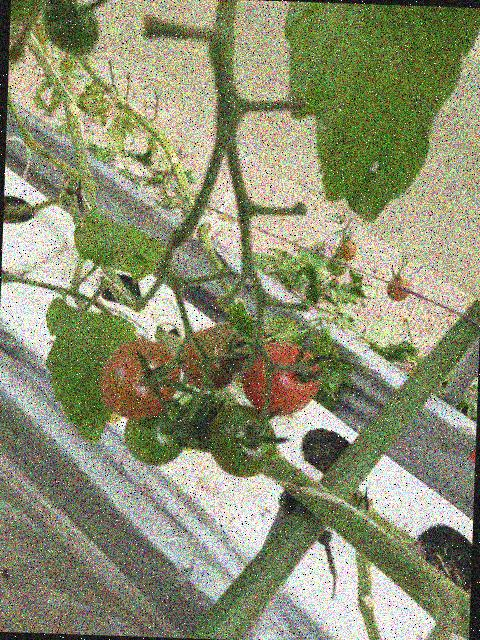l_fully_ripened: (240, 341, 321, 418)
l_green: (207, 403, 278, 479), (123, 397, 193, 468), (39, 0, 102, 57), (182, 392, 226, 453), (10, 0, 49, 28), (328, 254, 347, 277)
l_half_ripened: (99, 339, 181, 421), (178, 325, 248, 393), (385, 277, 410, 302), (337, 240, 357, 261)
